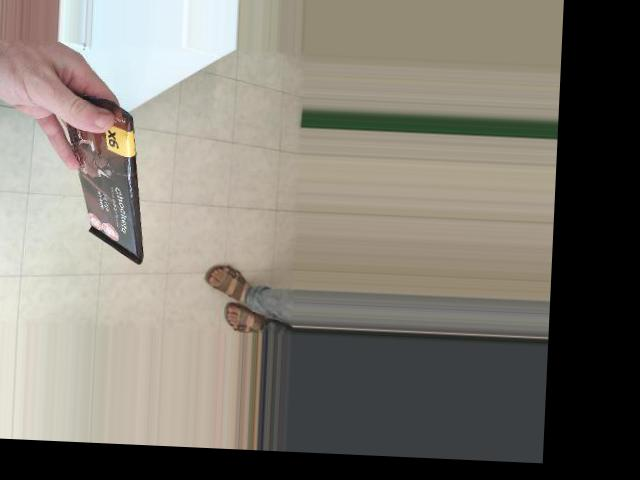chocolate: (46, 81, 162, 271)
